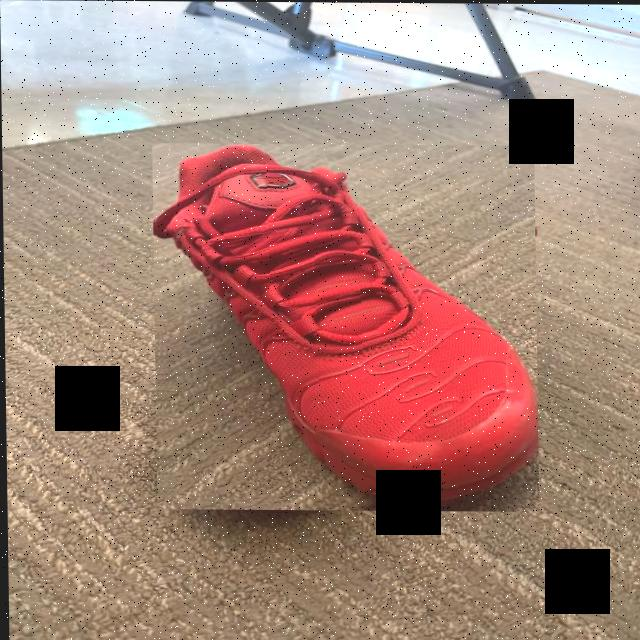shoe: (152, 143, 538, 512)
